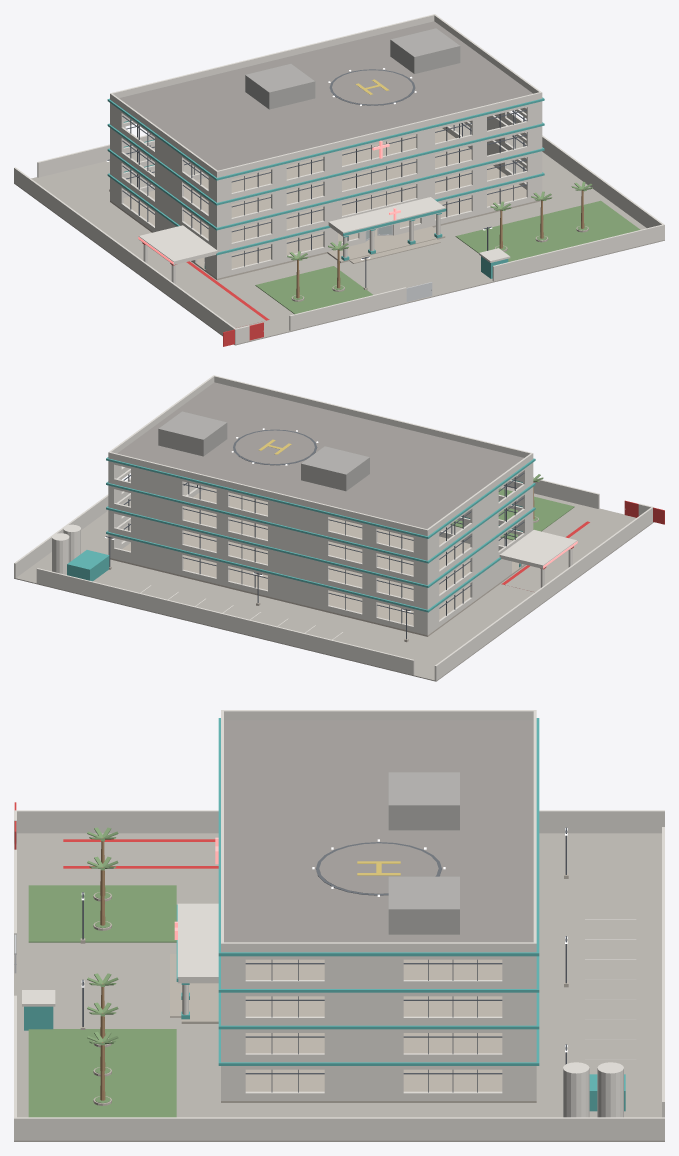
The model's file is SM_Hopital_CHU.fbx.
The picture shows the model from 3 angles, top to bottom: view 1: azimuth 30°, elevation 25°; view 2: azimuth 150°, elevation 25°; view 3: azimuth 270°, elevation 25°; orthographic projection. The views are drawn at different scales.
Parts seen in each view (by area): view 1: Hopital_Ext_Site, Hopital_Ext_Roof, Hopital_Ext_Walls, Hopital_Ext_Details; view 2: Hopital_Ext_Site, Hopital_Ext_Roof, Hopital_Ext_Walls, Hopital_Ext_Details; view 3: Hopital_Ext_Site, Hopital_Ext_Roof, Hopital_Ext_Walls, Hopital_Ext_Details.
Part boxes in pixels (x1=…): Hopital_Ext_Site: x1=14, y1=111, x2=664, y2=345; Hopital_Ext_Roof: x1=110, y1=14, x2=542, y2=177; Hopital_Ext_Walls: x1=107, y1=97, x2=544, y2=278; Hopital_Ext_Details: x1=106, y1=140, x2=592, y2=327; Hopital_Ext_Site: x1=14, y1=478, x2=653, y2=681; Hopital_Ext_Roof: x1=108, y1=375, x2=533, y2=536; Hopital_Ext_Walls: x1=106, y1=457, x2=535, y2=635; Hopital_Ext_Details: x1=52, y1=474, x2=620, y2=642; Hopital_Ext_Site: x1=14, y1=810, x2=664, y2=1141; Hopital_Ext_Roof: x1=221, y1=710, x2=536, y2=952; Hopital_Ext_Walls: x1=218, y1=718, x2=539, y2=1100; Hopital_Ext_Details: x1=63, y1=827, x2=625, y2=1117.
Bounding box in the file's own units: 7600 × 1980 × 6600.
